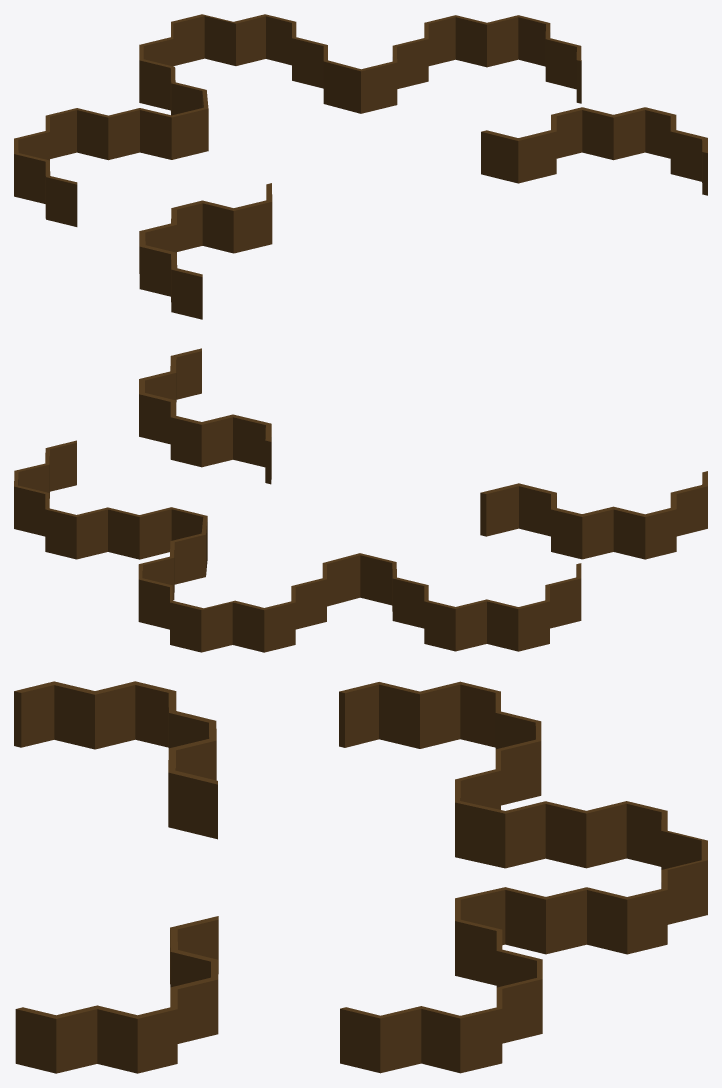
The model's file is Walls.fbx.
3 views of the same model, one above another, from view 1: azimuth 30°, elevation 25°; view 2: azimuth 150°, elevation 25°; view 3: azimuth 270°, elevation 25° (orthographic). The views are drawn at different scales.
Parts seen in each view (by area): view 1: Walls; view 2: Walls; view 3: Walls.
Part boxes in pixels (left/top/right/bottom): Walls: left=14, top=14, right=707, bottom=319; Walls: left=14, top=348, right=707, bottom=652; Walls: left=14, top=681, right=707, bottom=1073.
Bounding box in the file's own units: 124 × 9.39 × 108.
